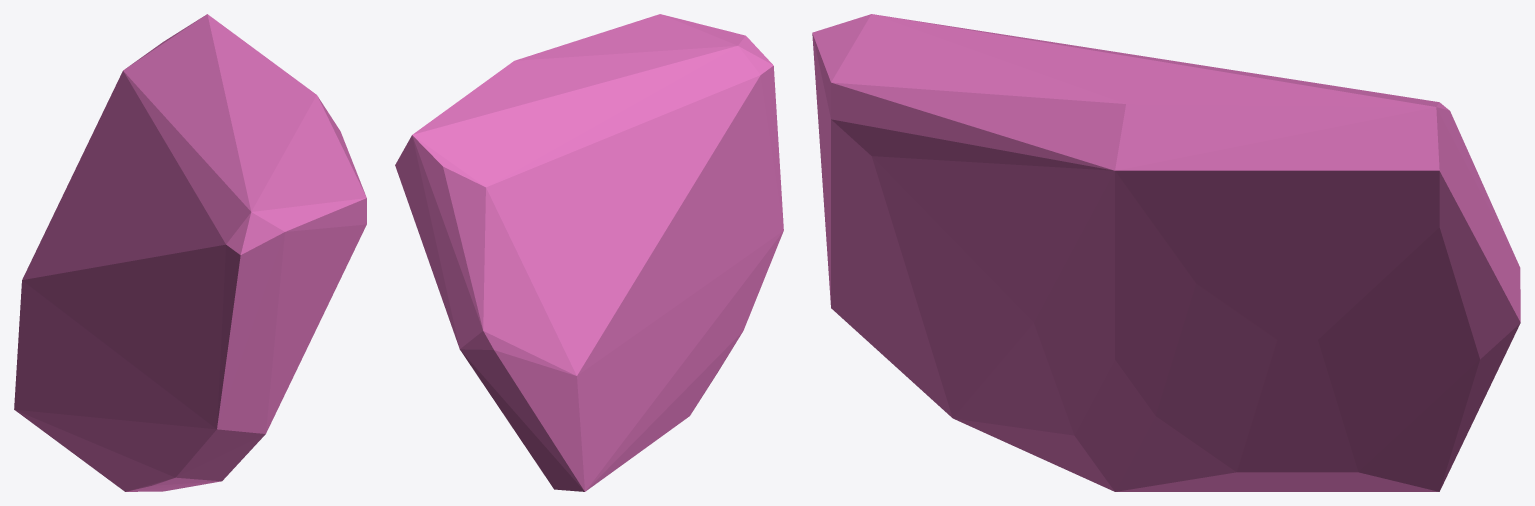
The model's file is mouth_cup026.obj.
The picture shows the model from 3 angles, left to right: view 1: azimuth 30°, elevation 25°; view 2: azimuth 150°, elevation 25°; view 3: azimuth 270°, elevation 25°; orthographic projection. The views are drawn at different scales.
Parts seen in each view (by area): view 1: mouth_cup026_mouth_cup026.001; view 2: mouth_cup026_mouth_cup026.001; view 3: mouth_cup026_mouth_cup026.001.
Part boxes in pixels (x1,y1,x2,y2): mouth_cup026_mouth_cup026.001: (14, 14, 366, 491); mouth_cup026_mouth_cup026.001: (395, 14, 783, 491); mouth_cup026_mouth_cup026.001: (812, 14, 1520, 491).
Bounding box in the file's own units: 0.082 × 0.127 × 0.1648.
